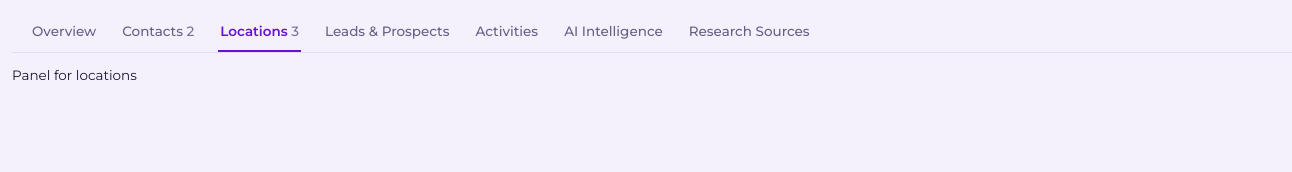
Tabs › keeps hidden panels out of the DOM
Expected: the number of panels is 1, [12,66,137,82]
Click the tab "AI Intelligence": [613, 32] box [562,12,665,52]
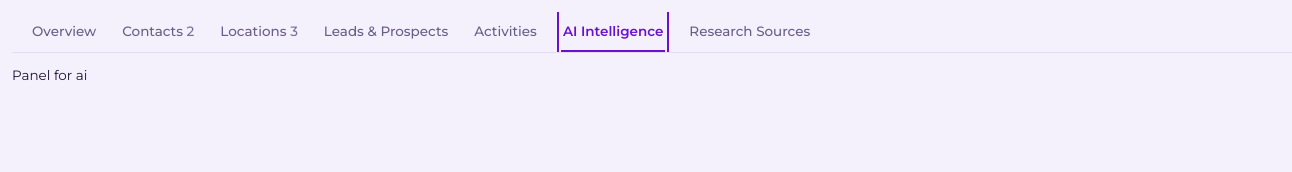
Now the number of panels is 1, box [12,66,87,82]
Now the text "Panel for locations" is gone
